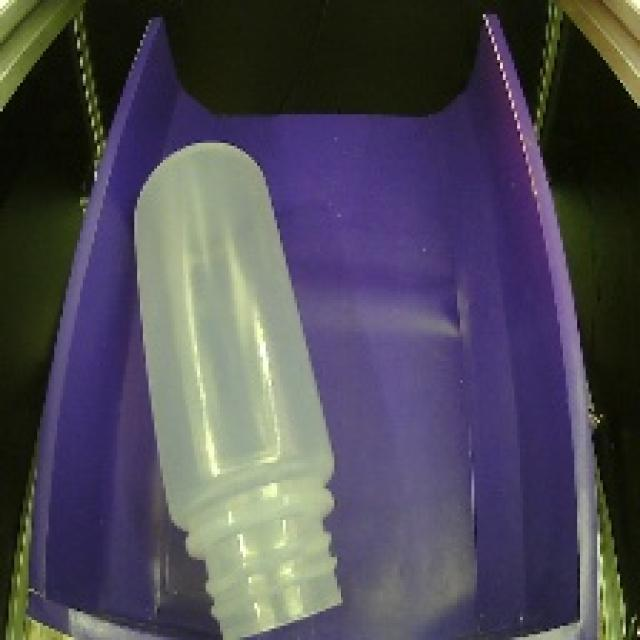plastic: (116, 139, 356, 640)
